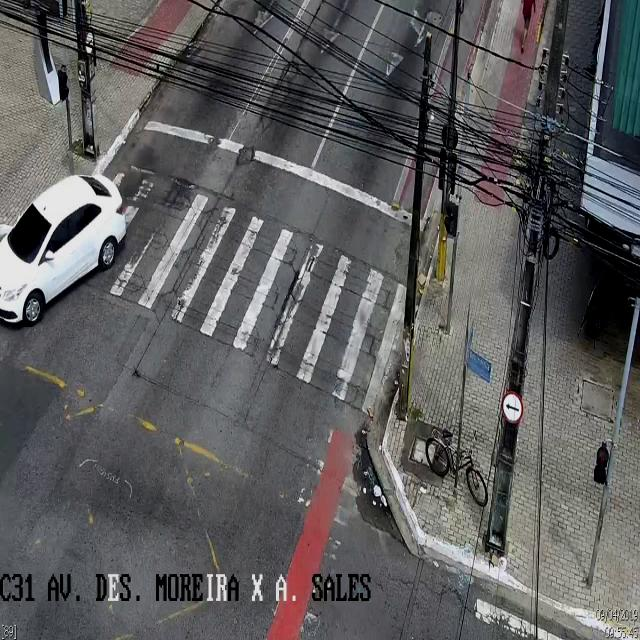Car: (0, 164, 120, 327)
